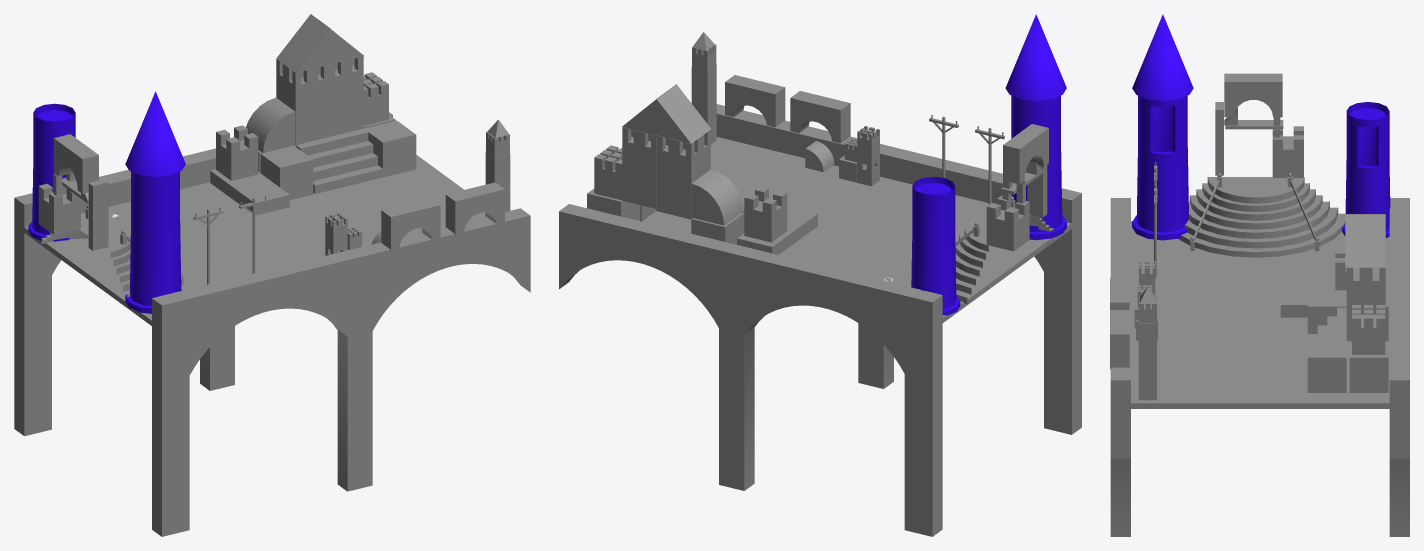
Rendered from 1차다리전체.fbx.
3 renders of one model, left to right at view 1: azimuth 30°, elevation 25°; view 2: azimuth 150°, elevation 25°; view 3: azimuth 270°, elevation 25°, orthographic.
Parts seen in each view (by area): view 1: Line140, Box433, Line142, Cylinder136, Plane034, Cylinder145, Object051, Plane032, Rectangle042, Rectangle040, Box457, Box430 (+16 smaller); view 2: Line142, Box433, Line140, Cylinder145, Cylinder136, Plane034, Object051, Plane032, Cylinder141, Cylinder135, Rectangle040, Rectangle042 (+13 smaller); view 3: Box433, Cylinder141, Line142, Cylinder136, Line140, Cylinder145, Object051, Box425, Rectangle041, Box430, Plane032, Box431 (+12 smaller).
Boxes of the visible parts, x1,y1,x2,y2 form: Line140: [152, 208, 530, 536]; Box433: [24, 155, 485, 325]; Line142: [14, 112, 392, 436]; Cylinder136: [125, 171, 181, 313]; Plane034: [276, 58, 329, 145]; Cylinder145: [28, 103, 75, 241]; Object051: [125, 91, 185, 176]; Plane032: [329, 56, 363, 136]; Rectangle042: [381, 198, 440, 251]; Rectangle040: [445, 182, 504, 236]; Box457: [260, 145, 313, 199]; Box430: [364, 120, 416, 177]; Line142: [559, 204, 942, 536]; Box433: [642, 137, 1071, 322]; Line140: [716, 104, 1081, 434]; Cylinder145: [911, 176, 960, 315]; Cylinder136: [1011, 95, 1066, 240]; Plane034: [657, 130, 710, 217]; Object051: [1005, 14, 1066, 101]; Plane032: [622, 127, 656, 208]; Cylinder141: [955, 211, 1058, 303]; Cylinder135: [691, 169, 743, 225]; Rectangle040: [725, 75, 785, 127]; Rectangle042: [790, 91, 850, 143]; Box433: [1131, 221, 1389, 408]; Cylinder141: [1178, 177, 1345, 257]; Line142: [1389, 198, 1409, 536]; Cylinder136: [1132, 95, 1188, 240]; Line140: [1110, 198, 1130, 536]; Cylinder145: [1342, 102, 1390, 237]; Object051: [1132, 14, 1193, 101]; Box425: [1345, 214, 1385, 267]; Rectangle041: [1224, 73, 1282, 117]; Box430: [1307, 341, 1346, 392]; Plane032: [1346, 267, 1385, 341]; Box431: [1352, 305, 1385, 354].
Bounding box in the file's own units: 238 × 242 × 154.
